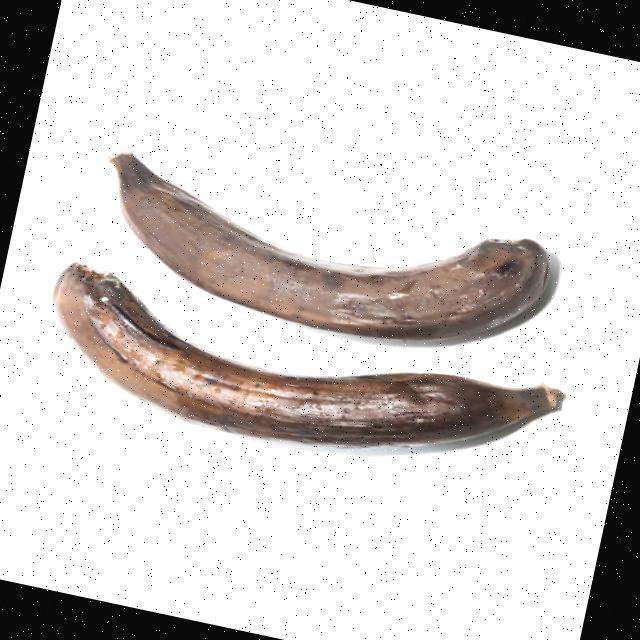Rotten: (80, 145, 558, 370)
